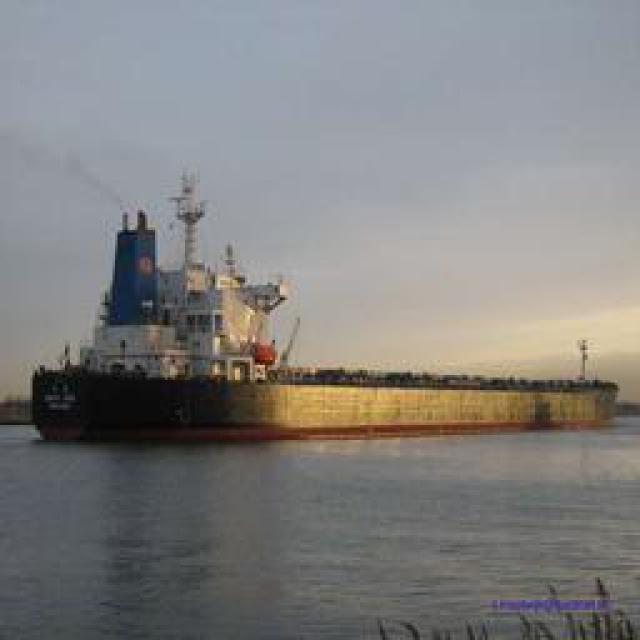Ship: (27, 163, 625, 439)
